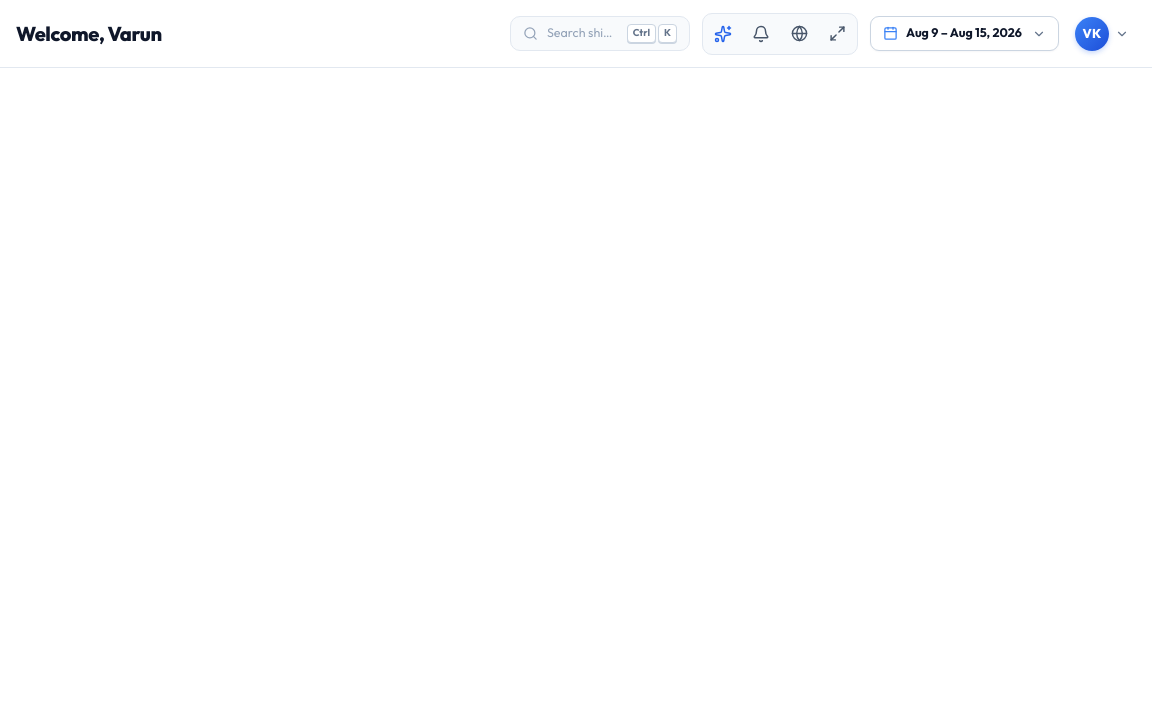
Test: TopBar Global Header Component › executes global search and displays categorized matches with direct navigation links
This screenshot has width=1152, height=720.
Open Search
Click the button with id "global-search-trigger" at (600, 34), box [510,16,690,51]
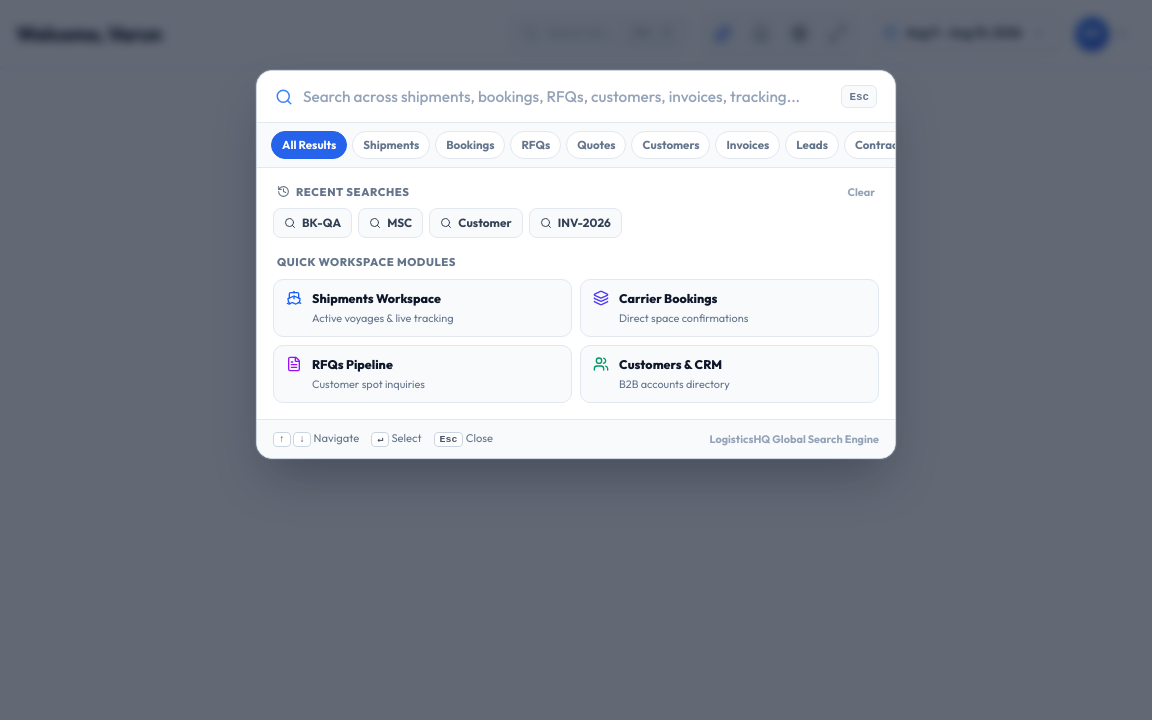
Replace the text in the field with placeholder "Search across shipments, bookings, RFQs, customers, invoices, tracking..." with "BK" at (567, 97), box [303,85,831,108]
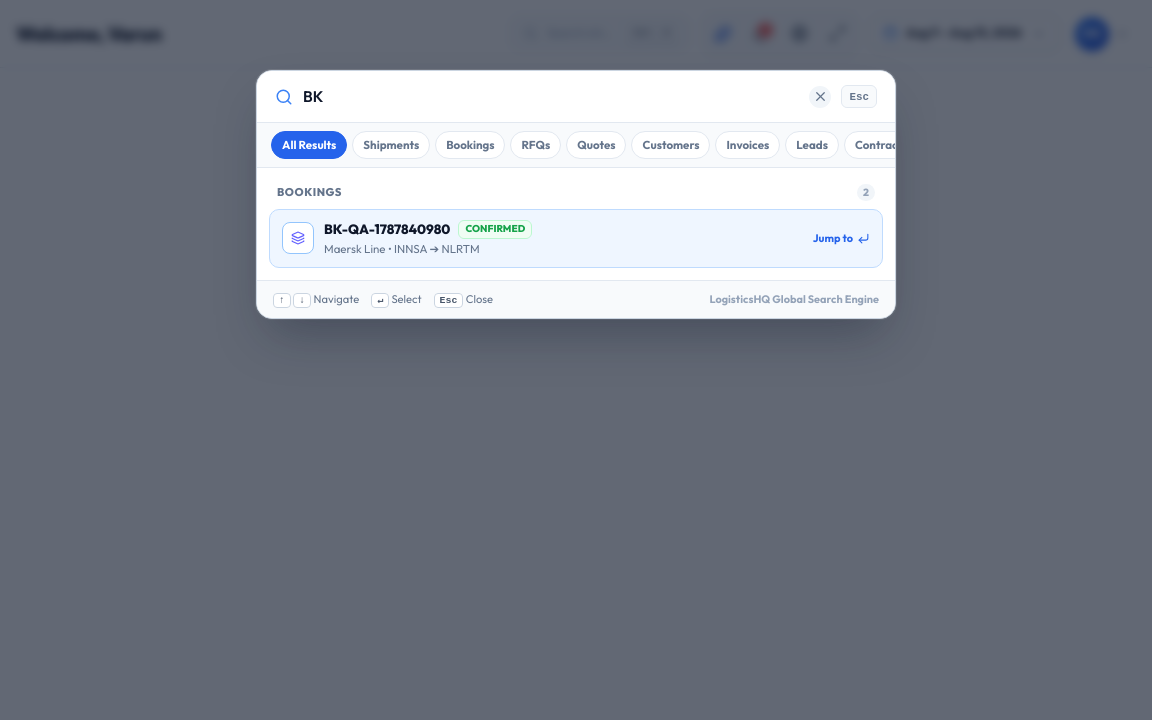
Expected: the text "BK-QA-1787840980" is shown, [324,219,450,239]
Expected: the text "Maersk Line • INNSA ➔ NLRTM" is shown, [324,241,480,256]
